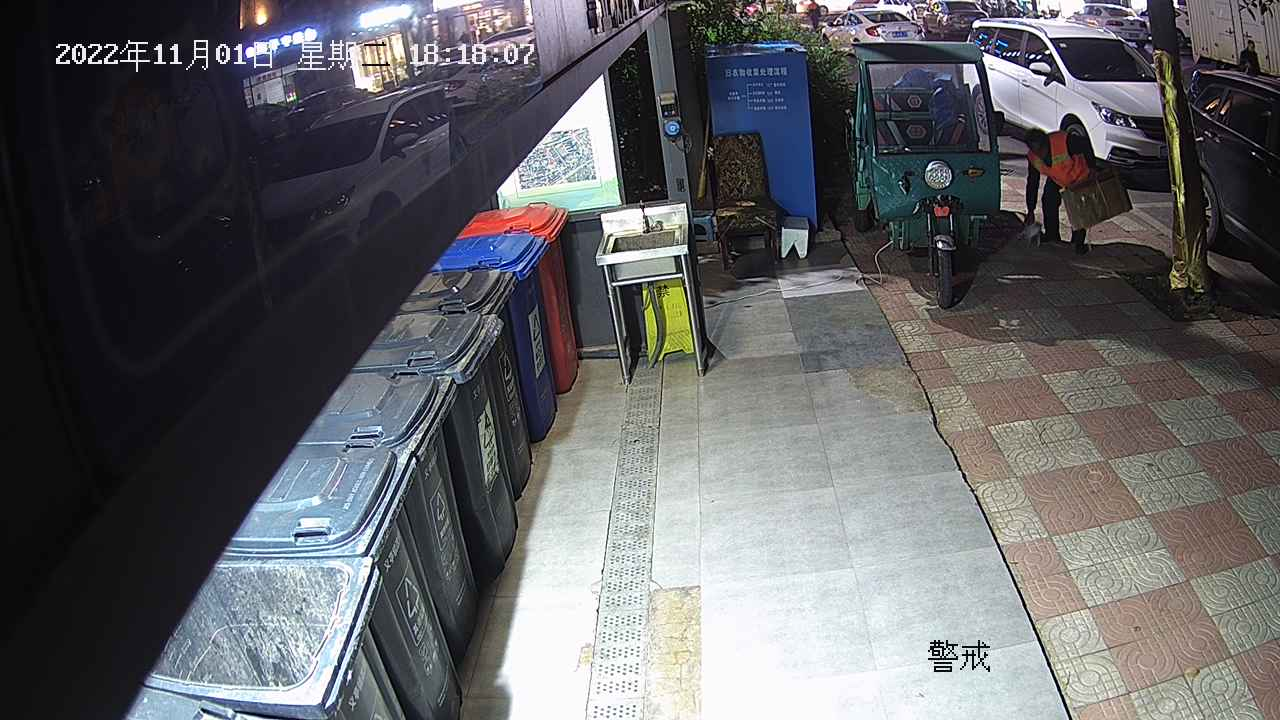worker: (1016, 122, 1097, 255)
zhizhipin: (1054, 168, 1134, 234), (1016, 222, 1045, 246)
